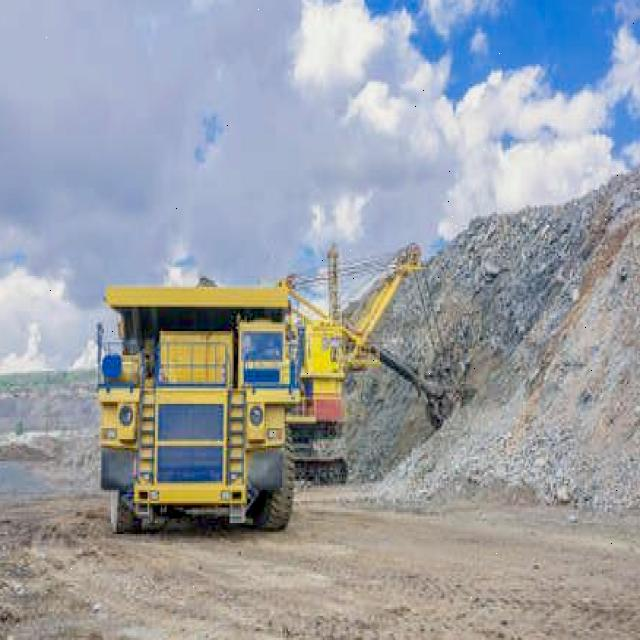Excavator: (281, 245, 475, 484)
